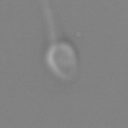normal: (35, 1, 64, 41)
